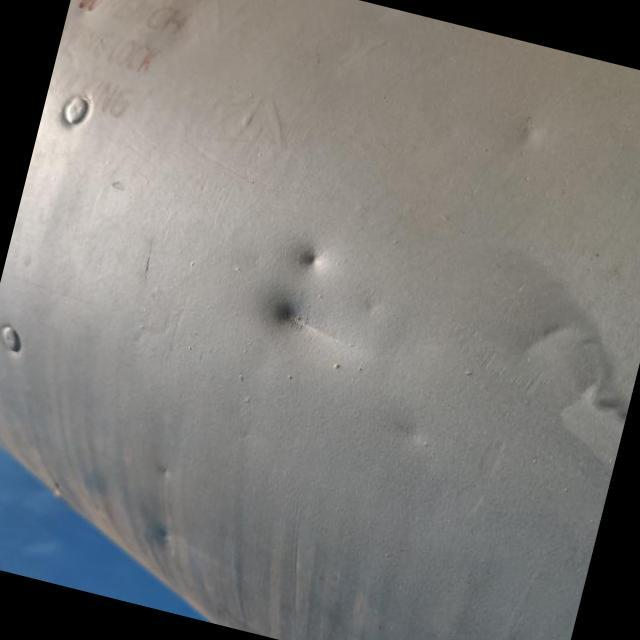Dent: (475, 243, 640, 470), (247, 272, 372, 382), (274, 227, 349, 304), (130, 504, 197, 570)
